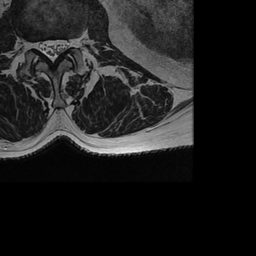CCS_normal: (48, 29, 57, 70)
LFS_normal: (67, 29, 77, 55)
LLS_normal: (57, 29, 67, 60)
RFS_stenosis: (29, 30, 38, 57)
RLS_normal: (38, 30, 47, 60)
